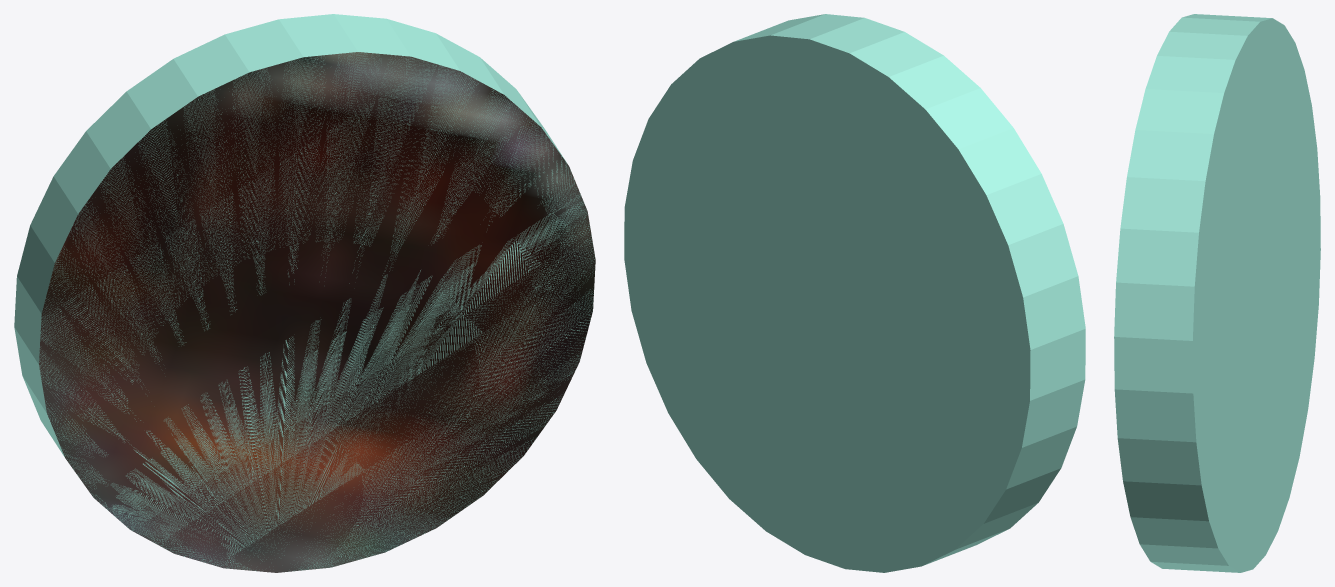
Rendered from SampleCar_01_Indicator_FR.fbx.
The picture shows the model from 3 angles, left to right: view 1: azimuth 30°, elevation 25°; view 2: azimuth 150°, elevation 25°; view 3: azimuth 270°, elevation 25°; orthographic projection. The views are drawn at different scales.
Parts seen in each view (by area): view 1: lamps_002_LOD0, UTM_lamps_002; view 2: UTM_lamps_002; view 3: UTM_lamps_002.
Part boxes in pixels (x1,y1,x2,y2): lamps_002_LOD0: (39,52,595,572); UTM_lamps_002: (14,14,594,571); UTM_lamps_002: (624,14,1085,572); UTM_lamps_002: (1114,14,1320,572).
Bounding box in the file's own units: 6.09 × 6.09 × 2.26.
